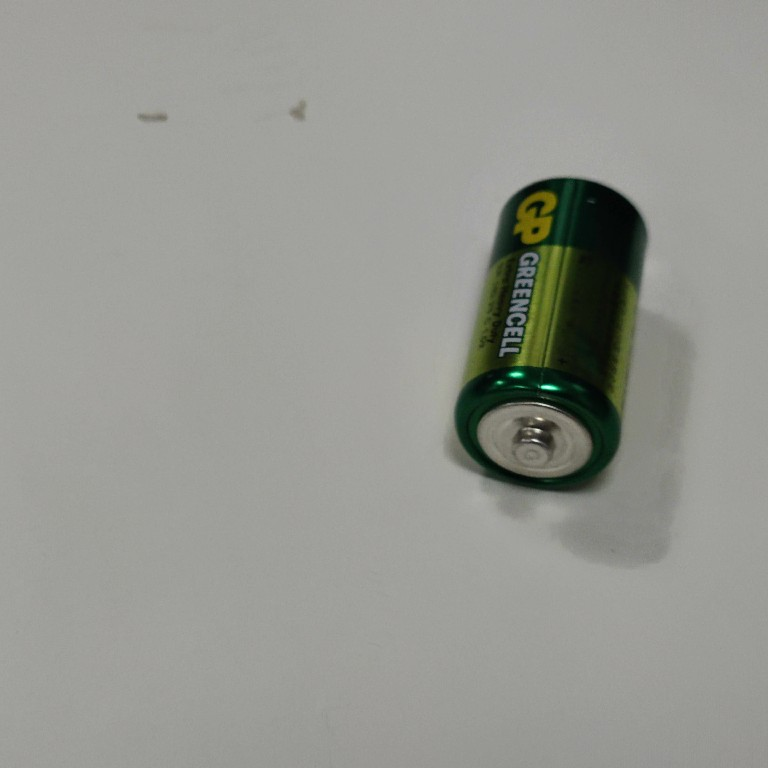charge: (444, 170, 650, 493)
